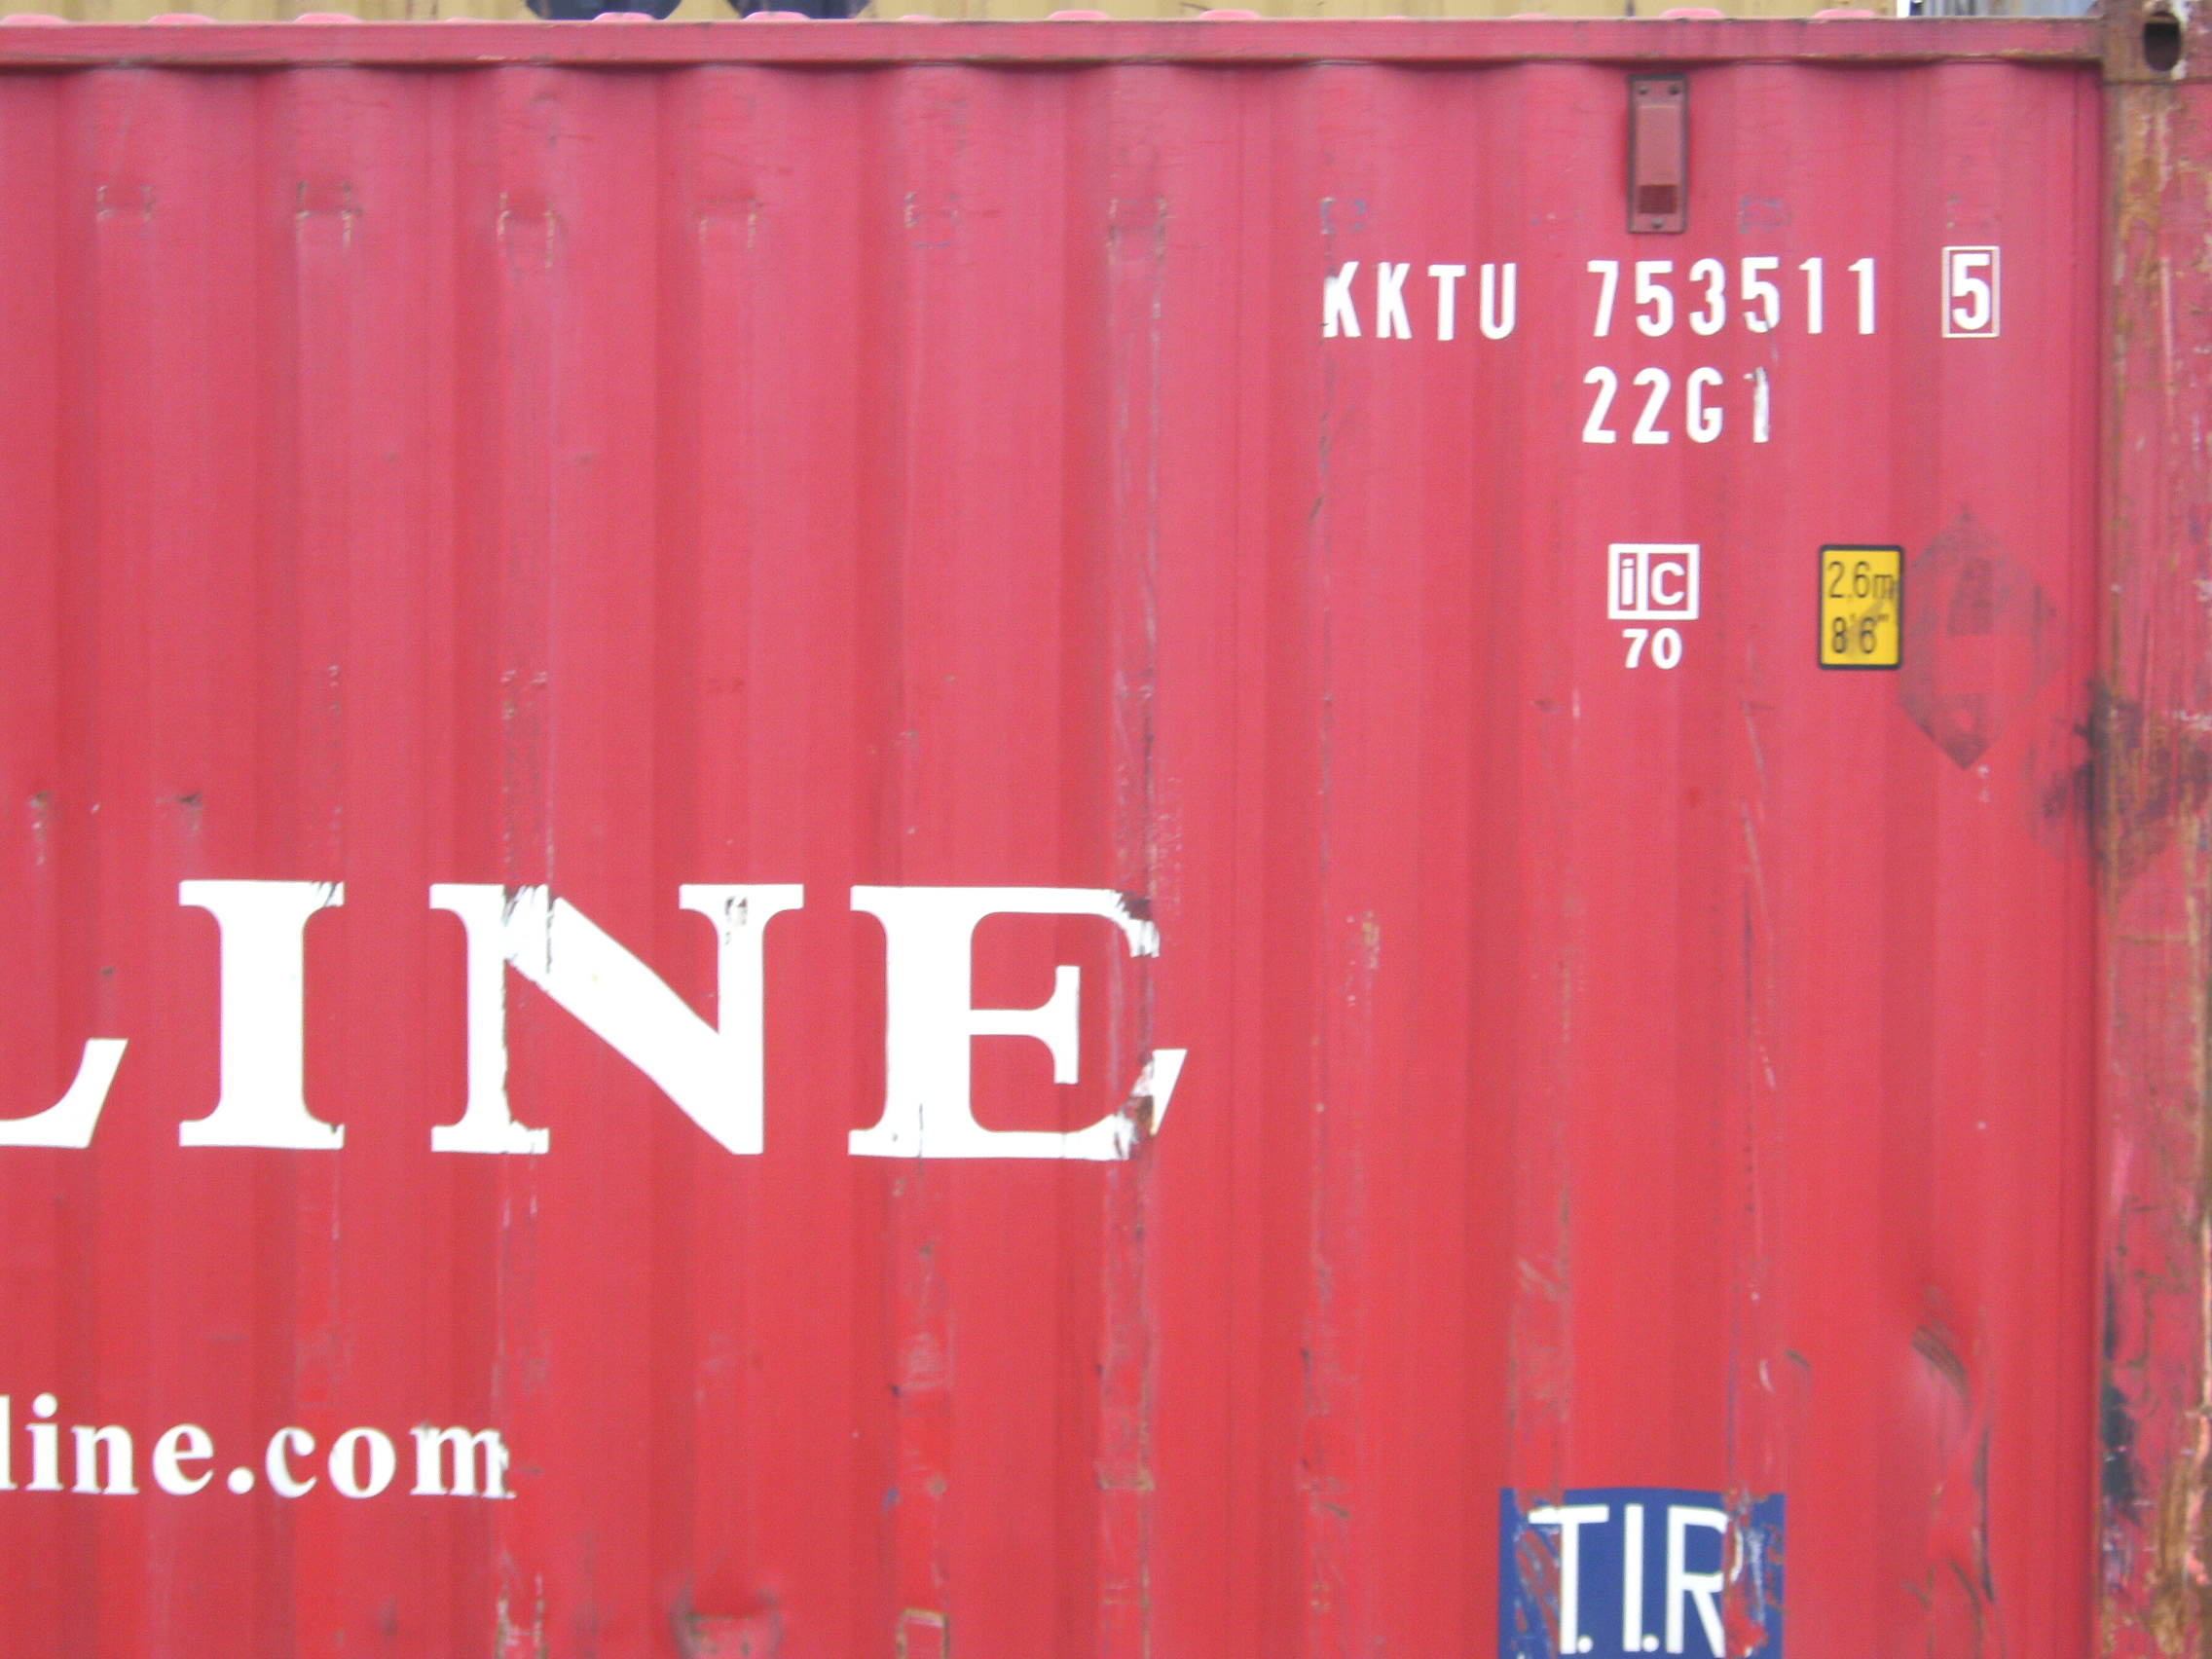container_no_door: (134, 105, 1987, 1615)
